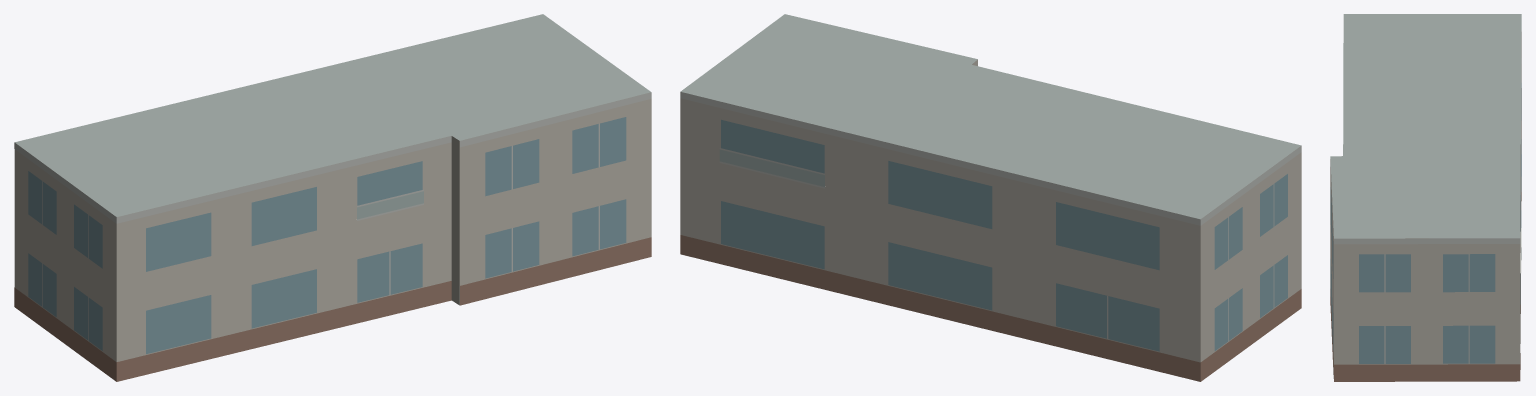
File: survey-upis-32654723.glb
The picture shows the model from 3 angles, left to right: view 1: azimuth 30°, elevation 25°; view 2: azimuth 150°, elevation 25°; view 3: azimuth 270°, elevation 25°; orthographic projection. The views are drawn at different scales.
Visible parts, largest first — view 1: survey-upis-32654723.tmp; view 2: survey-upis-32654723.tmp; view 3: survey-upis-32654723.tmp.
Boxes of the visible parts, x1=… form: survey-upis-32654723.tmp: x1=14, y1=14, x2=651, y2=381; survey-upis-32654723.tmp: x1=680, y1=14, x2=1301, y2=381; survey-upis-32654723.tmp: x1=1330, y1=14, x2=1521, y2=381.
Size of the model in its own units: 20.53 by 6.1 by 7.39.
